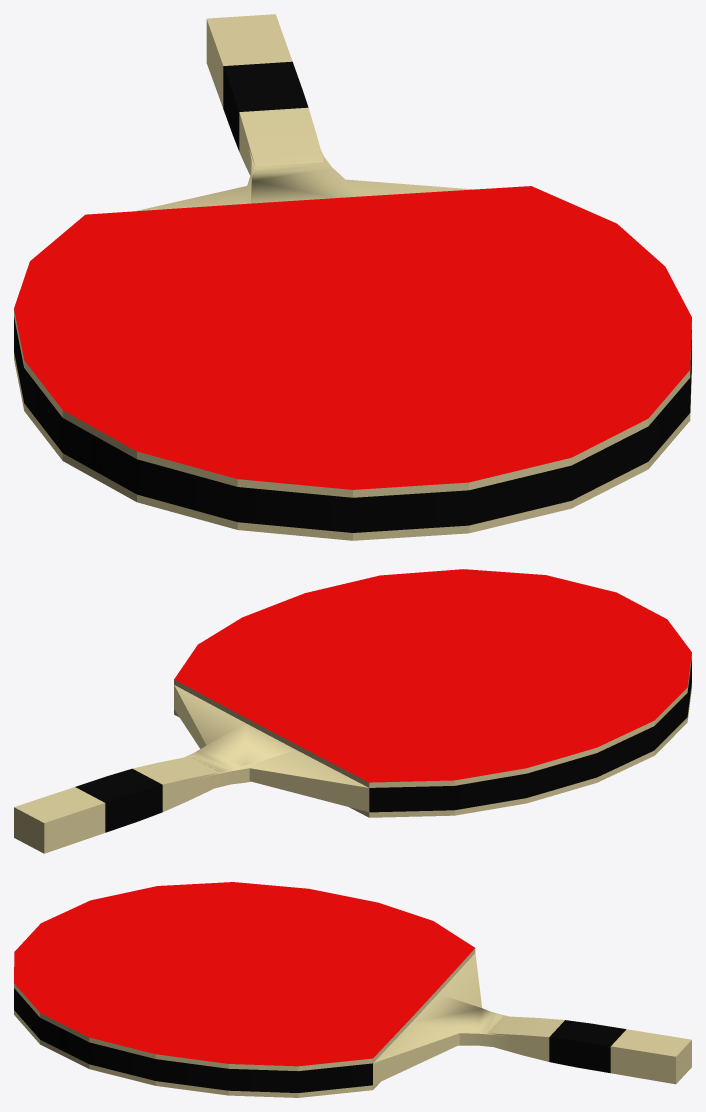
The model's file is Table tennisi paddle.gltf.
3 renders of one model, top to bottom at view 1: azimuth 30°, elevation 25°; view 2: azimuth 150°, elevation 25°; view 3: azimuth 270°, elevation 25°, orthographic. The views are drawn at different scales.
Parts seen in each view (by area): view 1: node-0; view 2: node-0; view 3: node-0.
Boxes of the visible parts, <box> form: node-0: <box>14,14,691,540</box>; node-0: <box>14,569,691,853</box>; node-0: <box>14,882,691,1097</box>.
Bounding box in the file's own units: 325979 × 26113 × 506719.
